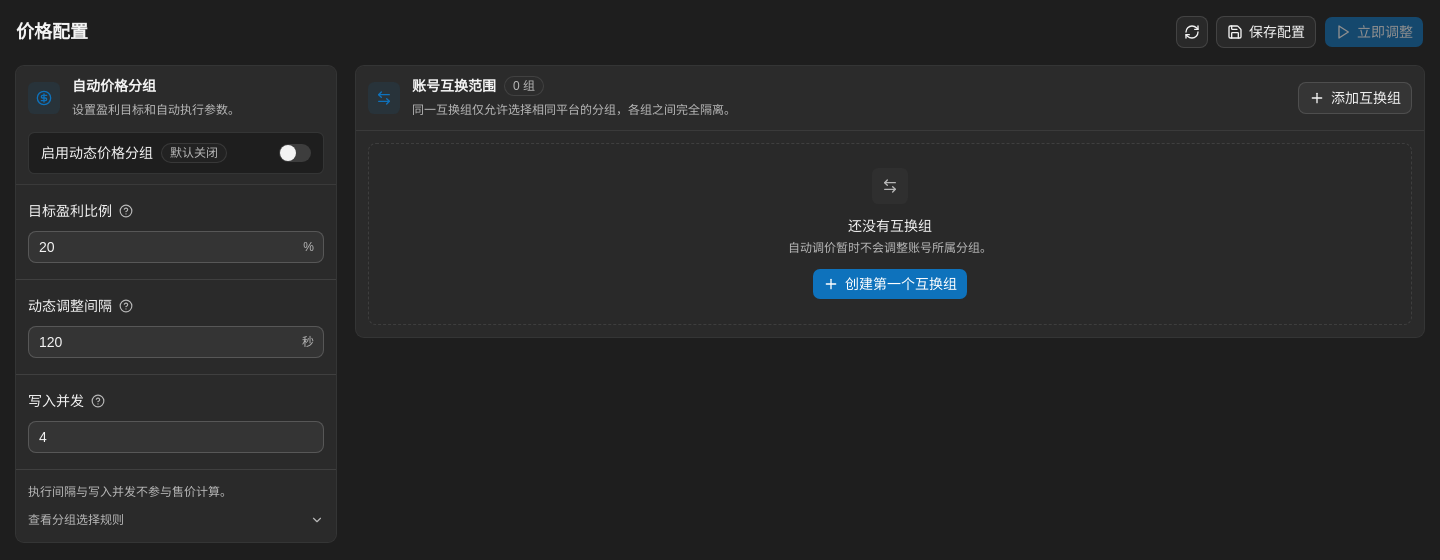
Test case: 保存请求期间继续修改价格草稿时响应不会覆盖较新的输入
Step 1. Replace the text in the number field labelled "目标盈利比例" with "25" → {"x": 176, "y": 247}, box [28,231,324,263]
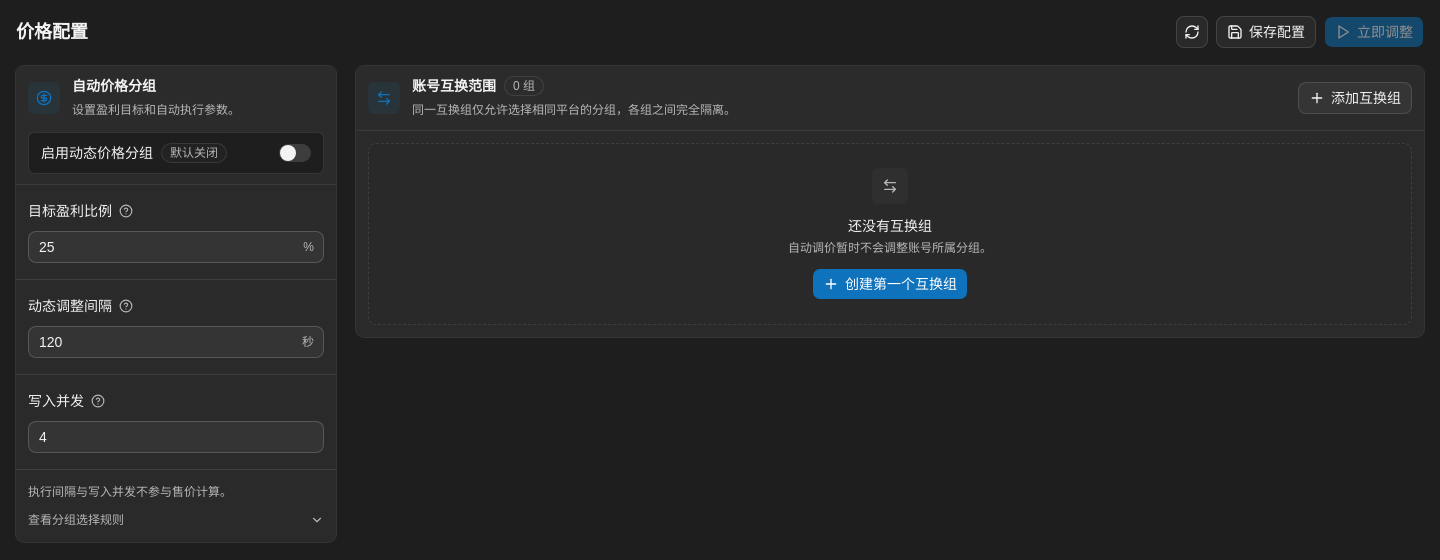
Step 2. Click the button "保存配置" → {"x": 1266, "y": 32}, box [1216,16,1316,48]
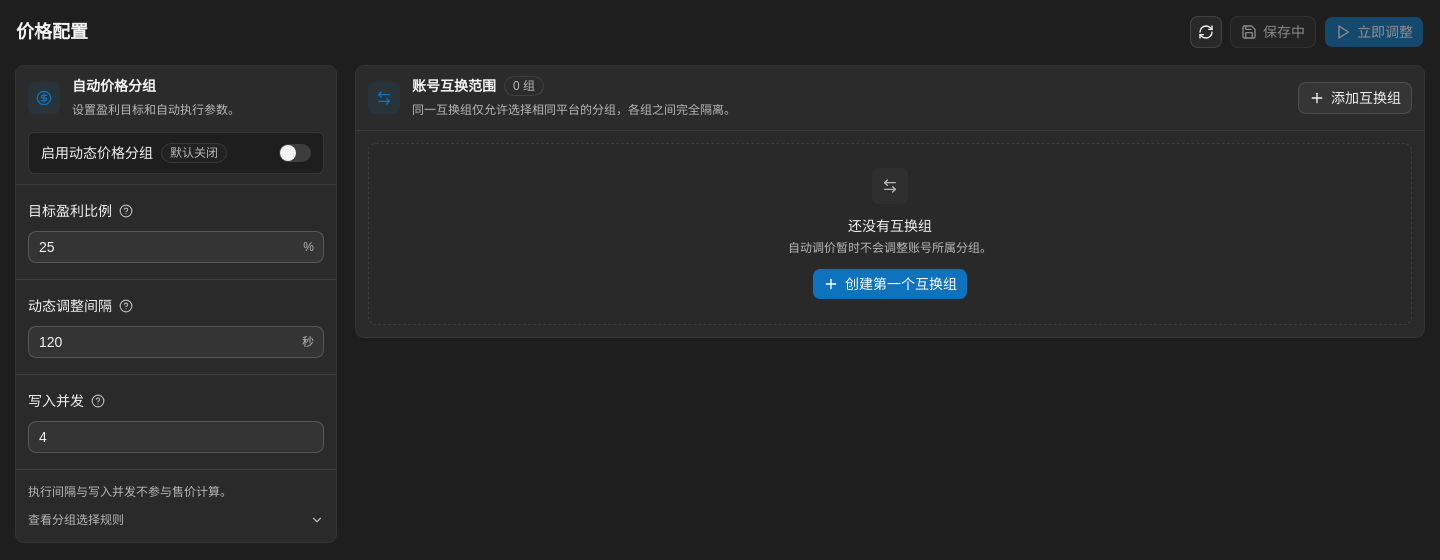
Check: the button "保存中" is shown, box [1230,16,1316,48]
Step 3. Replace the text in the number field labelled "目标盈利比例" with "35" → {"x": 176, "y": 247}, box [28,231,324,263]
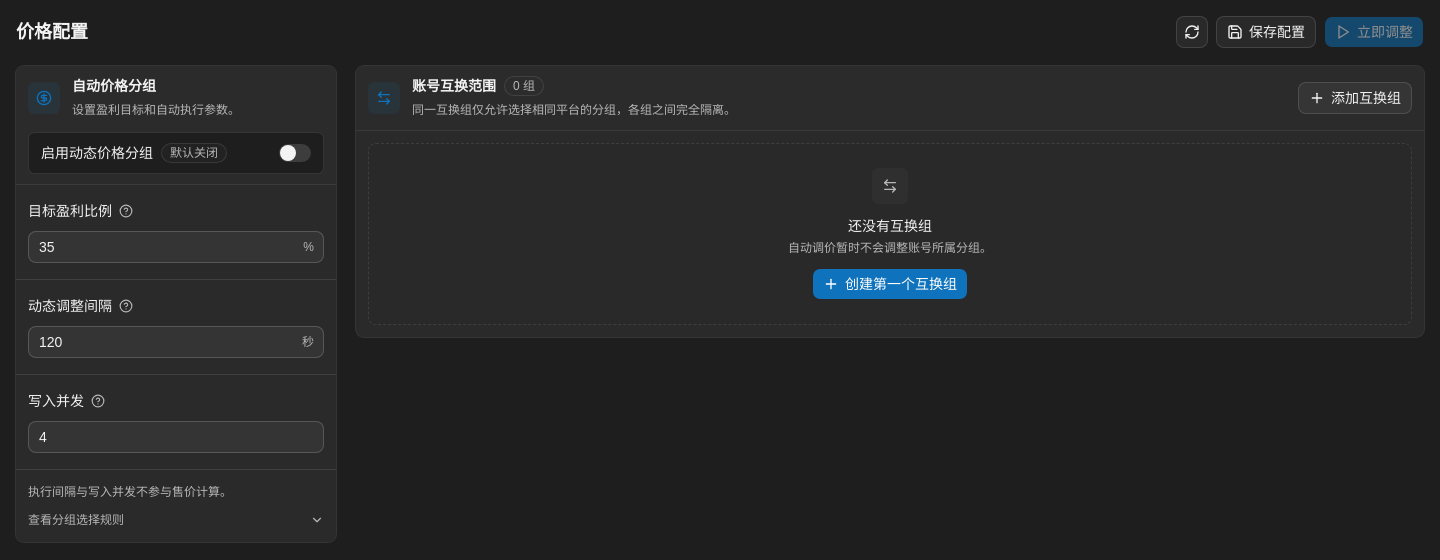
Check: the button "保存配置" is enabled, box [1216,16,1316,48]
